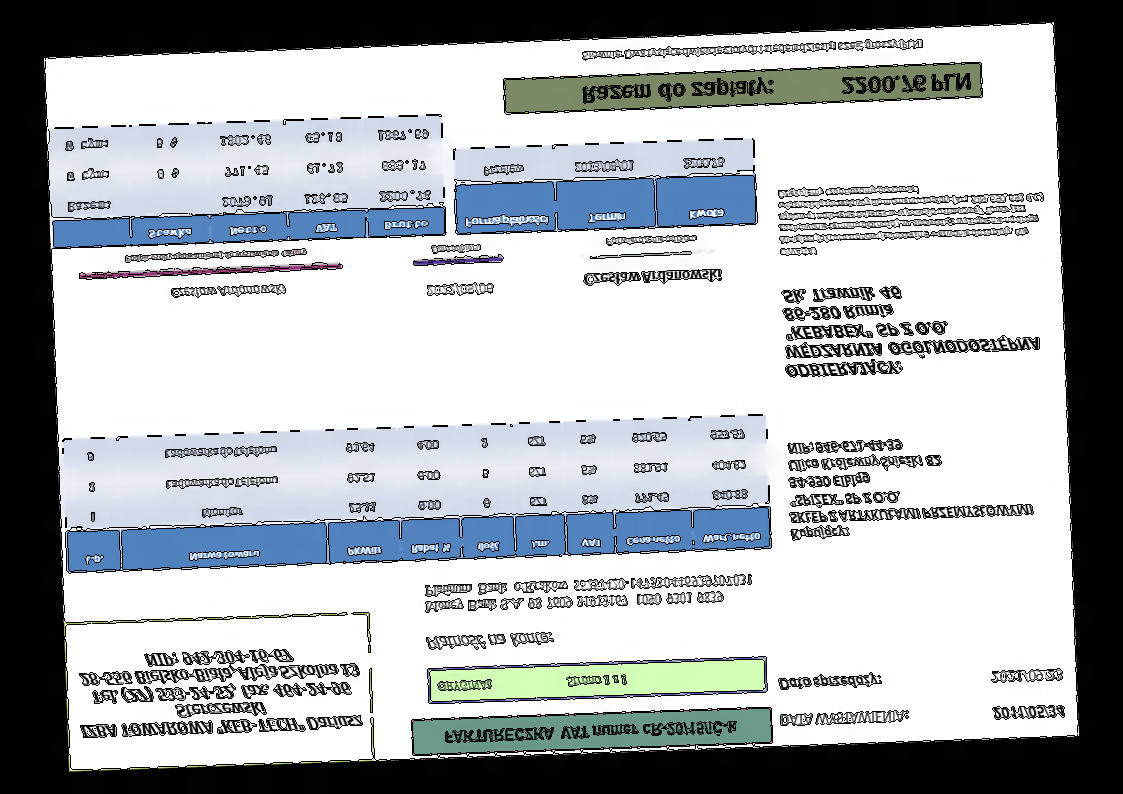Table: (61, 412, 774, 576), (47, 113, 447, 251), (451, 136, 759, 238)
TextBox: (74, 642, 365, 744), (784, 431, 1039, 545), (780, 278, 1044, 380), (775, 177, 1048, 261), (579, 67, 974, 107), (421, 571, 757, 617), (579, 35, 925, 64), (443, 718, 740, 748), (434, 671, 629, 697), (121, 246, 310, 266), (580, 266, 725, 290), (423, 629, 556, 654), (777, 707, 910, 731), (169, 281, 288, 304), (777, 670, 884, 694), (602, 232, 699, 249), (991, 702, 1068, 723), (988, 666, 1065, 686), (425, 280, 495, 299), (427, 242, 483, 257)
